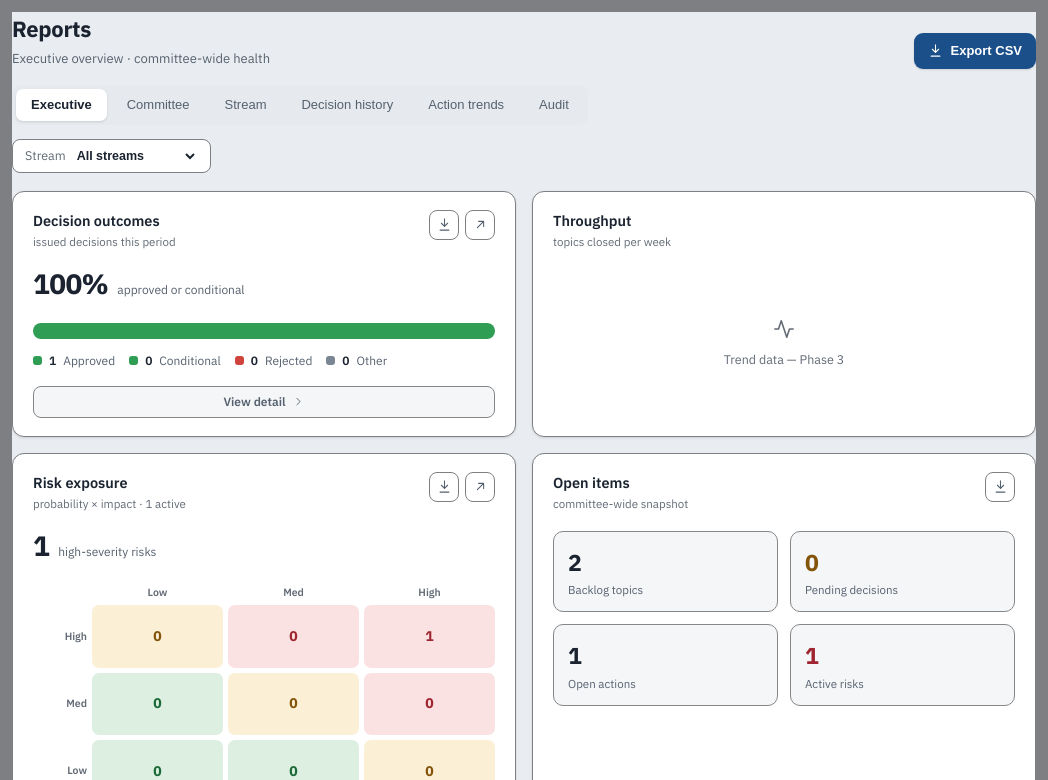
Test: ReportsPage (P12-PR3 shell) › says so in the card when the export fails instead of doing nothing
Click the button named "Export Decision outcomes as a PNG image".
click(444, 224)  # box [429,210,459,240]
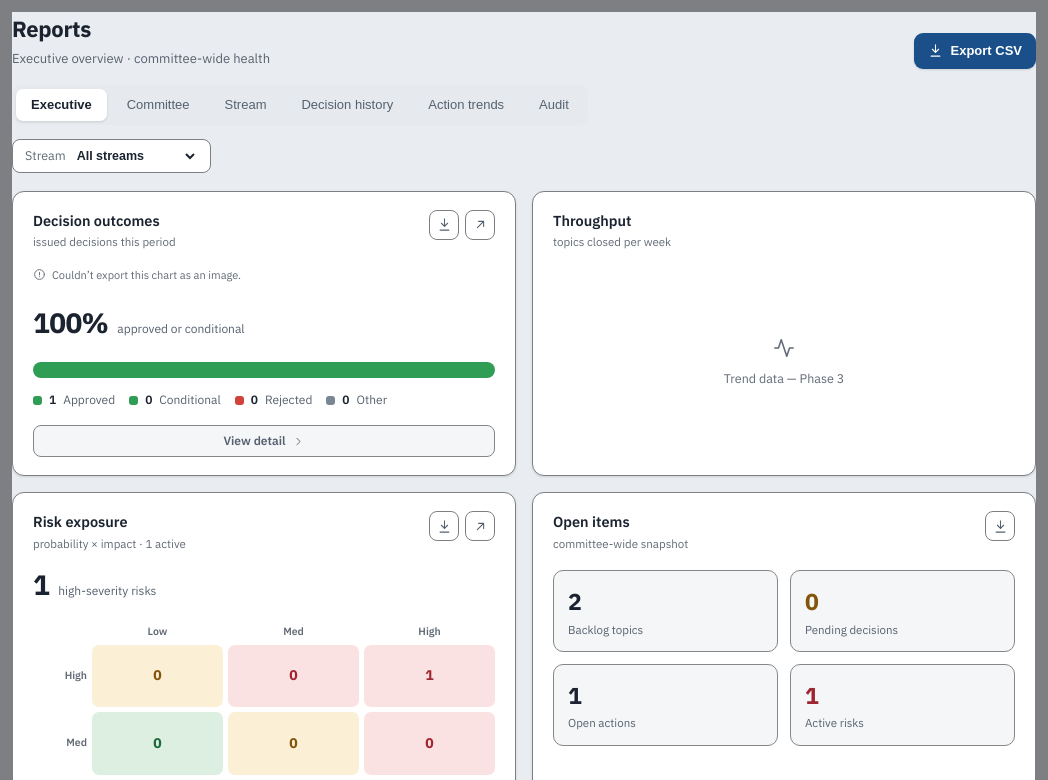
Now the message reads "Couldn’t export this chart as an image.", box [52,268,241,282]
